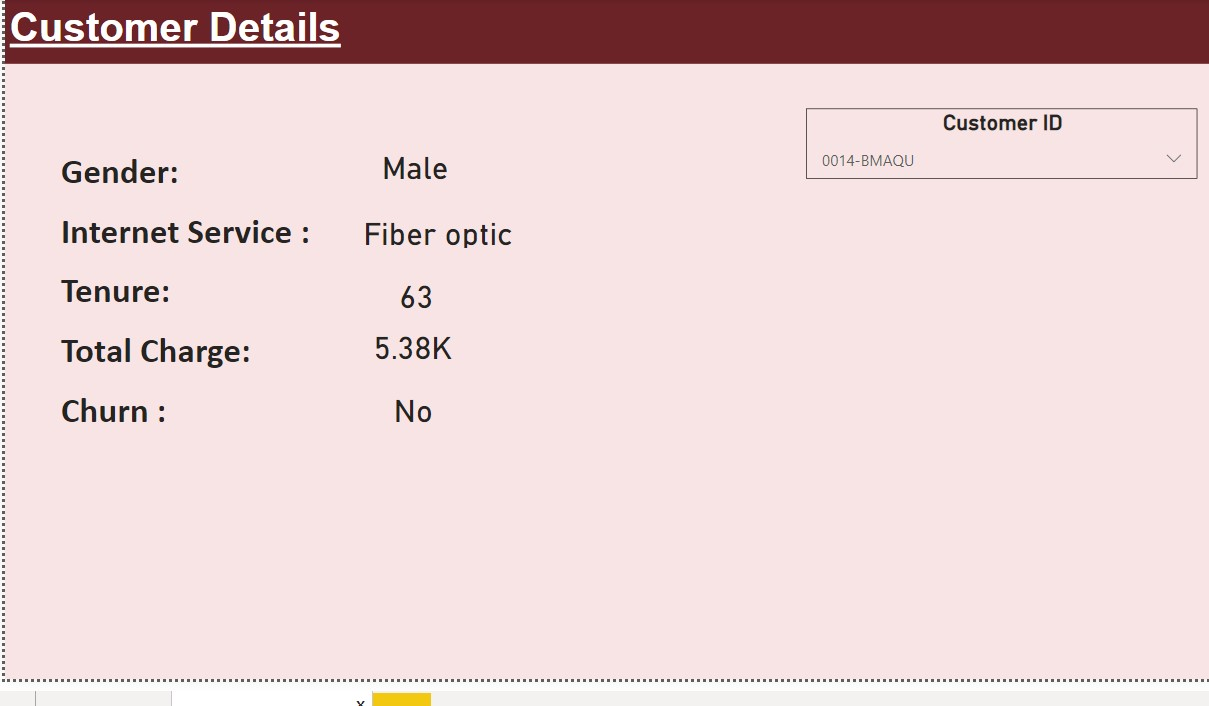

The dashboard page shown, as its layout file describes it:
{"tool":"powerbi","page":{"name":"Customer Details","canvas":[1280,720],"ordinal":1},"visuals":[{"type":"textbox","box":[0,0,1279.5,68.3],"z":0},{"type":"slicer","title":"Customer ID","fields":{"Values":["Telco-Customer-Churn.customerID"]},"box":[848.7,116,414.8,74.7],"z":1},{"type":"card","fields":{"Values":["Min(Telco-Customer-Churn.InternetService)"]},"box":[333.8,222.5,249.5,46.1],"z":2},{"type":"card","title":"Gender","fields":{"Values":["Min(Telco-Customer-Churn.gender)"]},"box":[333.8,154.2,201.9,44.5],"z":3},{"type":"card","fields":{"Values":["Sum(Telco-Customer-Churn.tenure)"]},"box":[364,284.5,143,57.2],"z":4},{"type":"card","fields":{"Values":["Sum(Telco-Customer-Churn.TotalCharges)"]},"box":[344.9,341.7,173.2,60.4],"z":5},{"type":"card","fields":{"Values":["Min(Telco-Customer-Churn.Churn)"]},"box":[371.9,402.1,120.8,87.4],"z":6},{"type":"textbox","box":[54,154.2,290.9,459.3],"z":7}]}

Visuals, with their boxes on the page's 1280x720 design canvas (x1, y1, x2, y2). These are canvas units, not pixel positions in the 1209x706 screenshot, which may show the page scaled, cropped or inside an application window:
textbox: 0/0/1280/68
"Customer ID" slicer: 849/116/1264/191
card - Min(Telco-Customer-Churn.InternetService): 334/222/583/269
"Gender" card: 334/154/536/199
card - Sum(Telco-Customer-Churn.tenure): 364/284/507/342
card - Sum(Telco-Customer-Churn.TotalCharges): 345/342/518/402
card - Min(Telco-Customer-Churn.Churn): 372/402/493/490
textbox: 54/154/345/614
